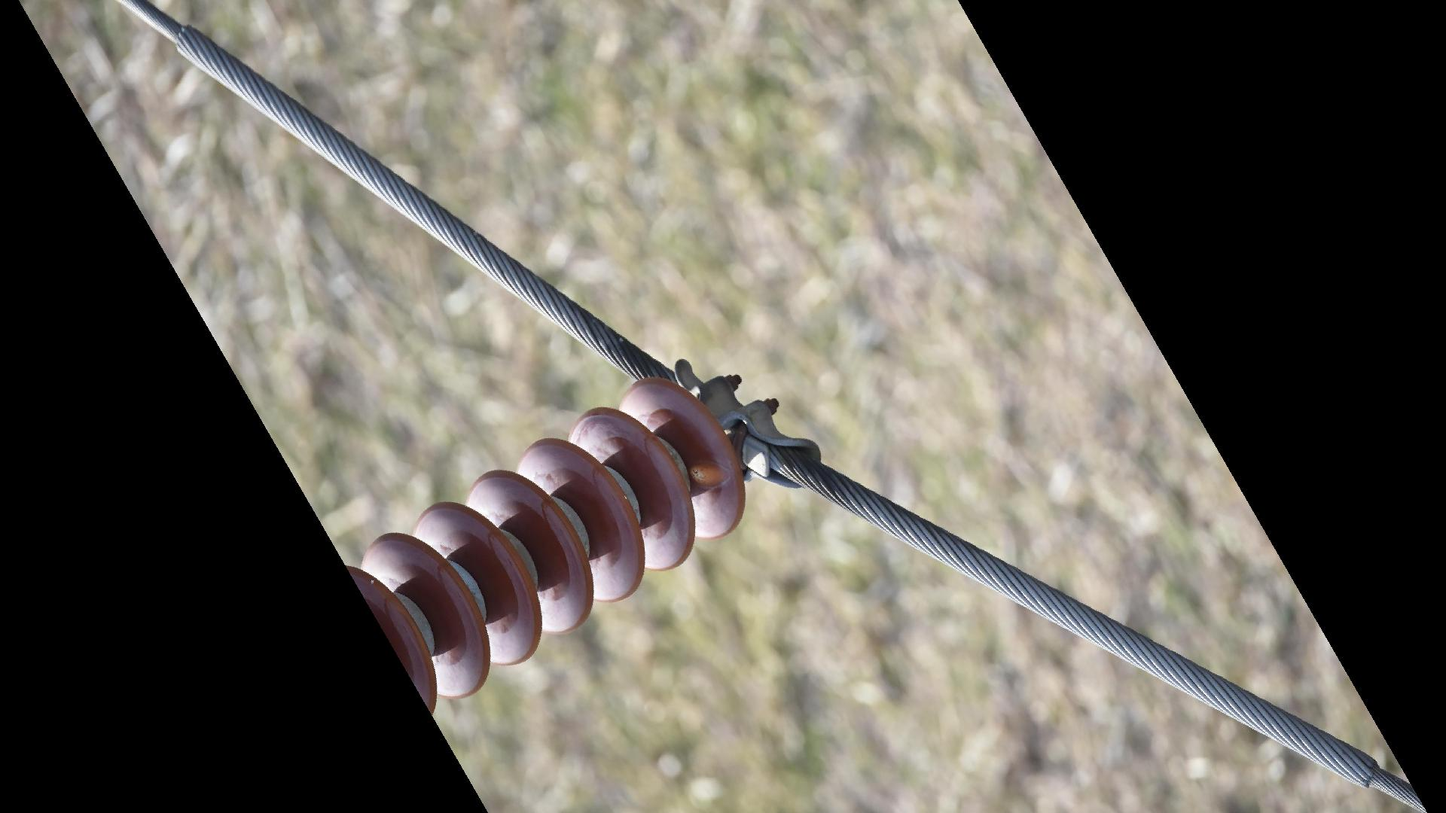insulator: (340, 375, 753, 720)
insulator_flashover: (688, 458, 732, 490)
